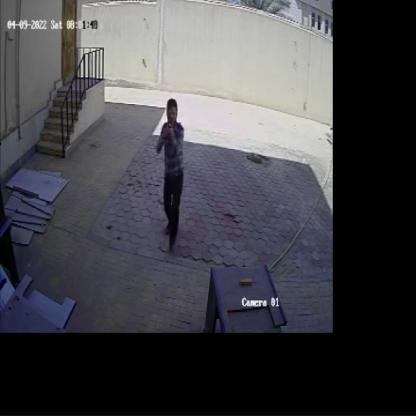handgun: (162, 110, 178, 140)
